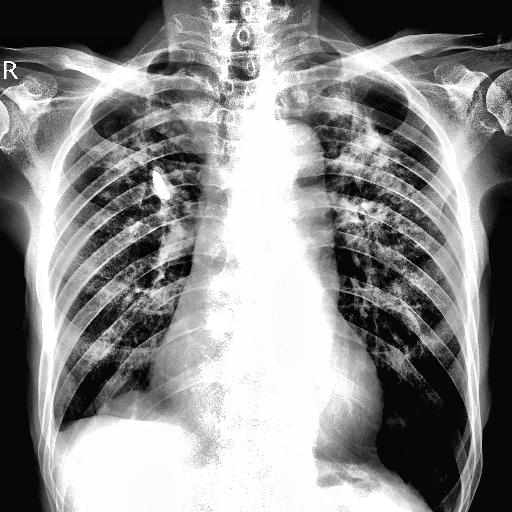0- Aortic enlargement: (252, 118, 328, 184), (266, 119, 326, 201)
10- Pleural effusion: (39, 390, 75, 472), (46, 412, 72, 450)
11- Pleural thickening: (39, 390, 75, 472), (46, 412, 72, 450)
13- Pulmonary fibrosis: (290, 56, 417, 266), (320, 87, 426, 274), (107, 84, 196, 244), (101, 64, 202, 200)
3- Cardiomegaly: (150, 367, 384, 456)
6- Infiltration: (92, 100, 204, 240), (339, 114, 417, 240)
7- Lung Opacity: (97, 388, 164, 428)
9- Other lesion: (97, 388, 164, 428), (150, 168, 172, 202), (148, 170, 171, 198)
